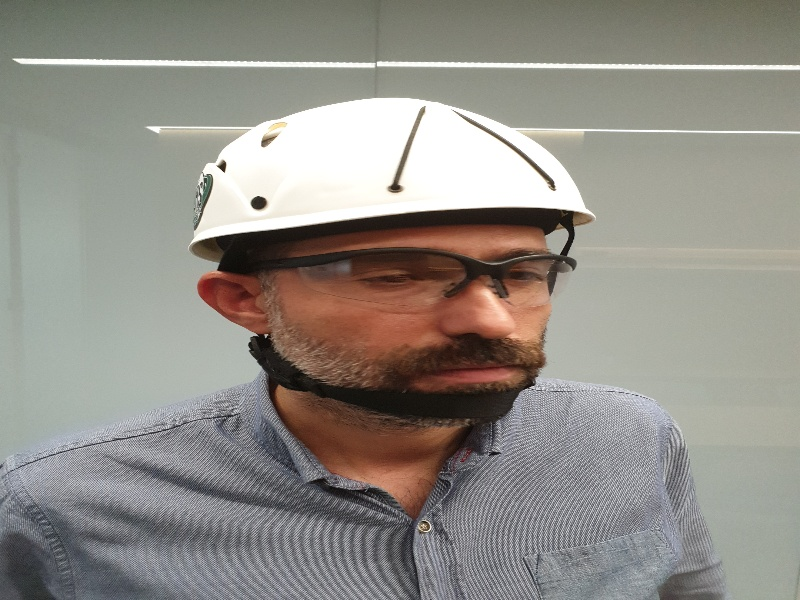Baret: (194, 96, 595, 235)
Gozluk: (241, 246, 583, 309)
